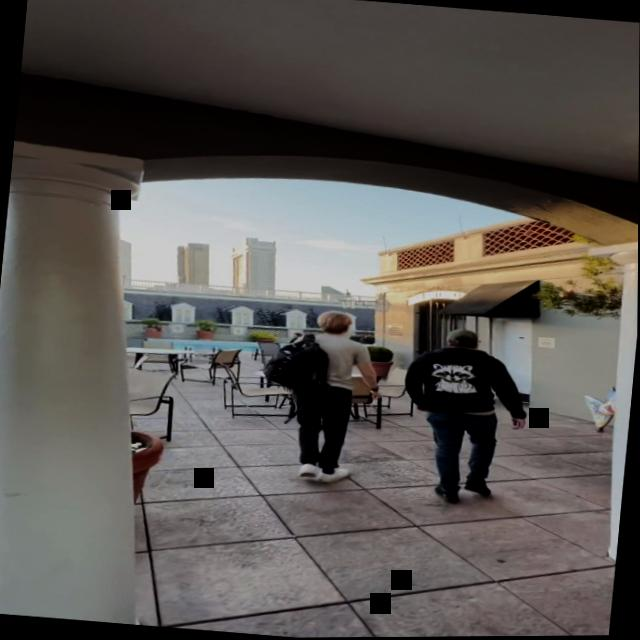NO-Mask: (293, 332, 300, 338)
